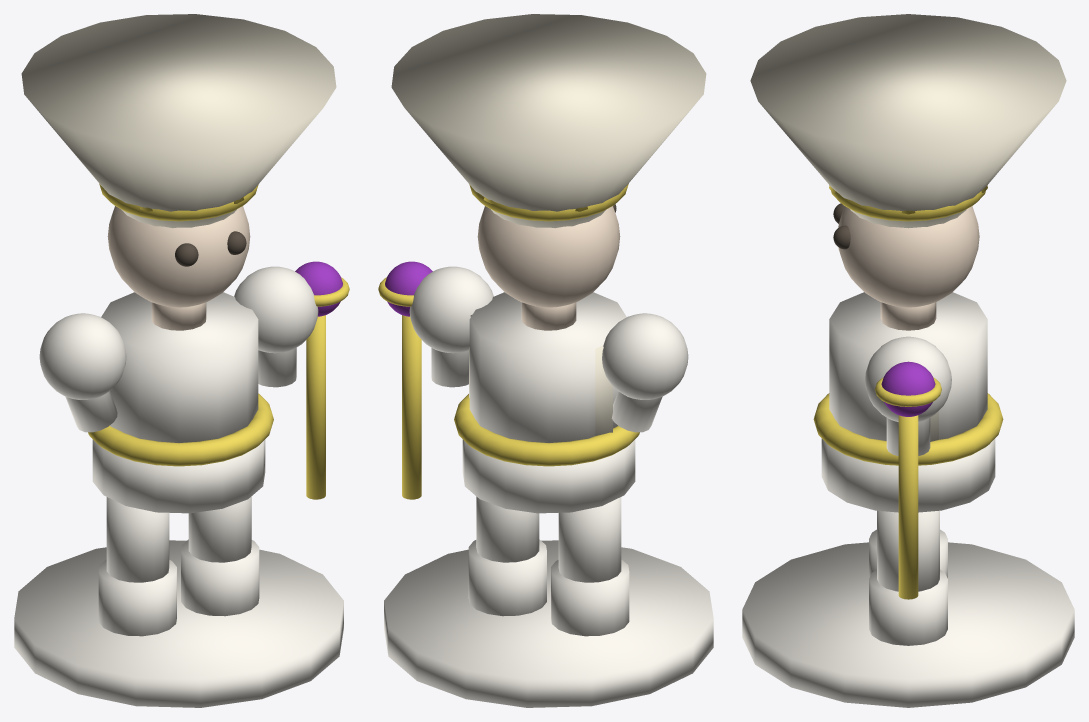
Rendered from Hau.glb.
3 views of the same model, side by side, from view 1: azimuth 30°, elevation 25°; view 2: azimuth 150°, elevation 25°; view 3: azimuth 270°, elevation 25° (orthographic).
Parts seen in each view (by area): view 1: Queen; view 2: Queen; view 3: Queen.
Part boxes in pixels (x1,y1,x2,y2): Queen: [14, 14, 349, 707]; Queen: [378, 14, 713, 707]; Queen: [742, 14, 1074, 707].
Size of the model in its own units: 0.905 by 1.55 by 0.84.
